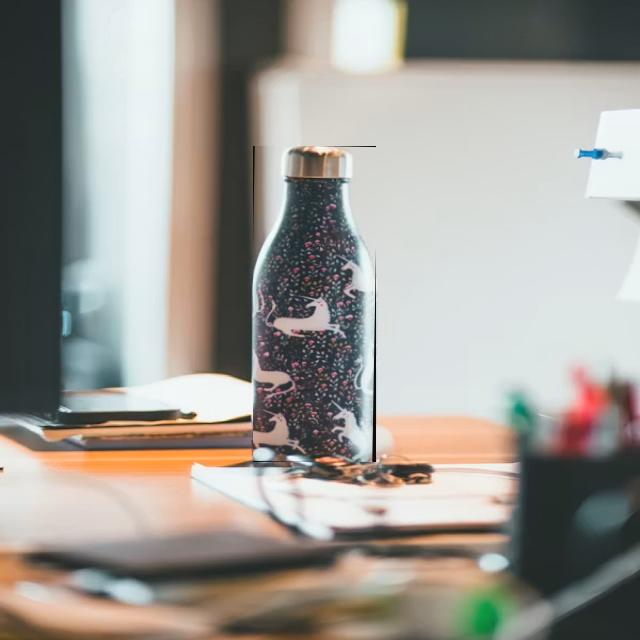Bottle: (252, 147, 375, 461)
